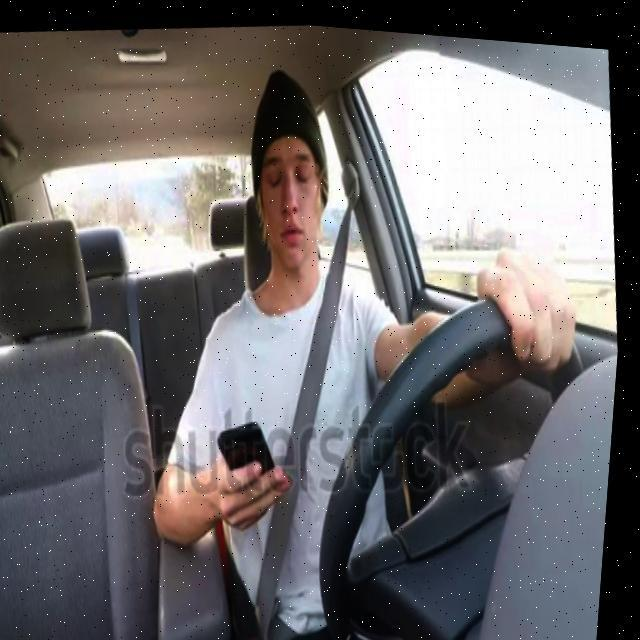PhoneCall: (216, 409, 296, 510)
